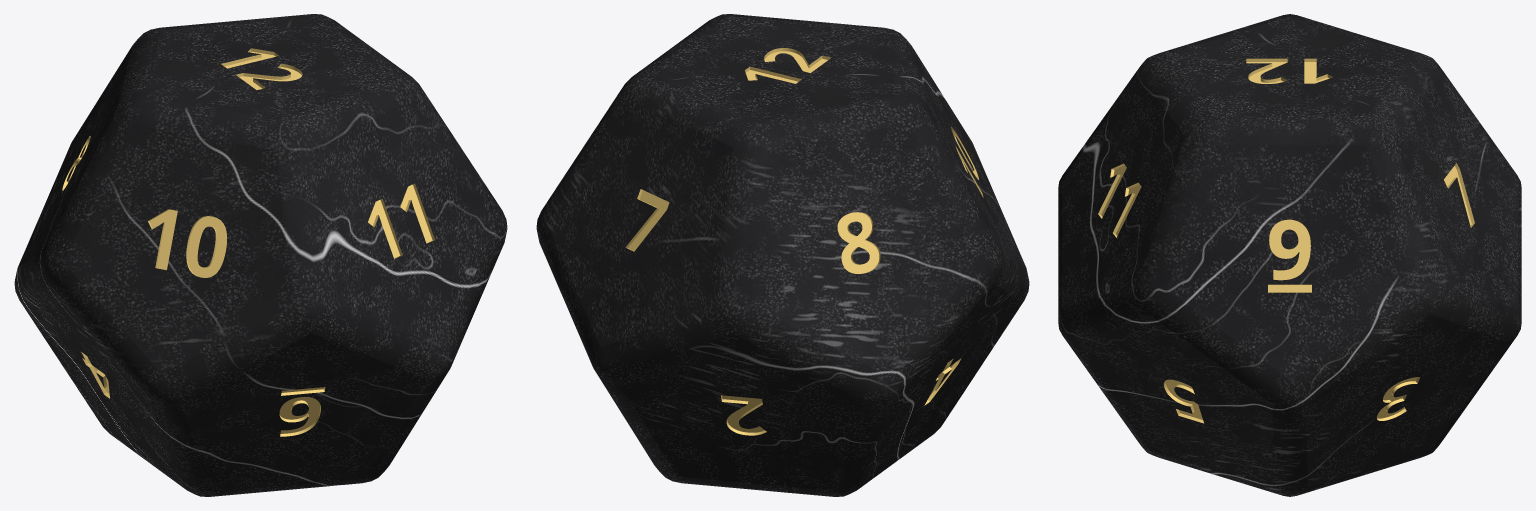
3 renders of one model, left to right at view 1: azimuth 30°, elevation 25°; view 2: azimuth 150°, elevation 25°; view 3: azimuth 270°, elevation 25°, orthographic. The views are drawn at different scales.
Visible parts, largest first — view 1: body.001; view 2: body.001; view 3: body.001.
Boxes of the visible parts, <box> form: body.001: <box>14,14,507,496</box>; body.001: <box>536,14,1029,496</box>; body.001: <box>1058,14,1521,496</box>.
Bounding box in the file's own units: 0.9496 × 0.7947 × 0.9065.
Materials: 2 (1 with a texture image).
